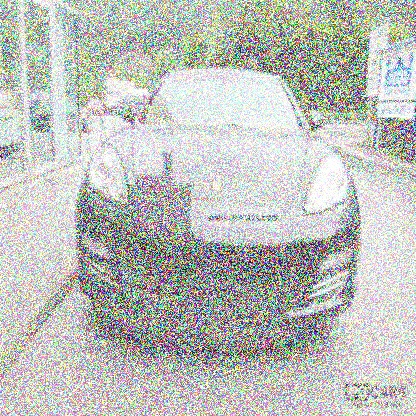Vehicle: (75, 68, 363, 325)
